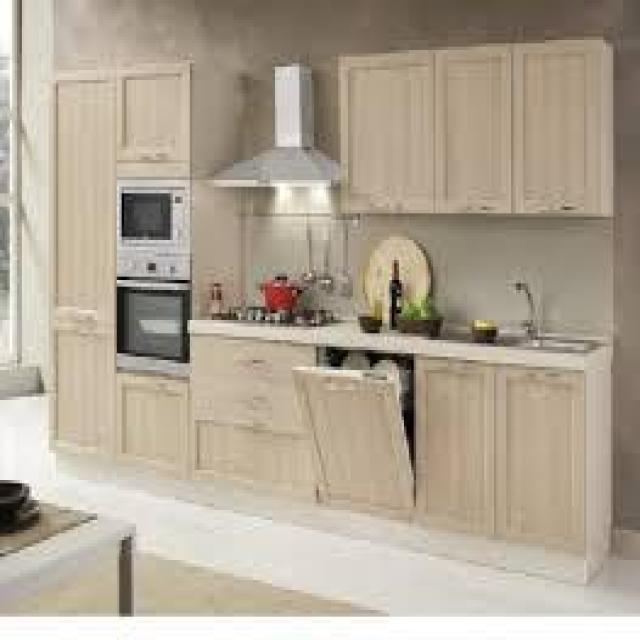dishwasher: (290, 340, 421, 527)
